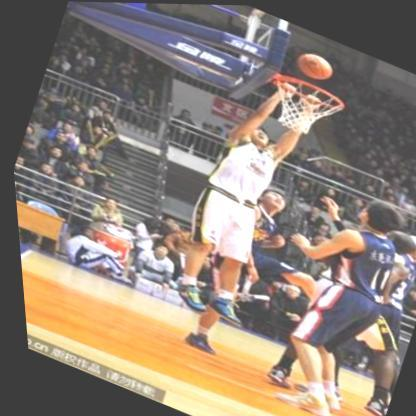basketball: (290, 47, 336, 84)
rim: (258, 69, 348, 145)
